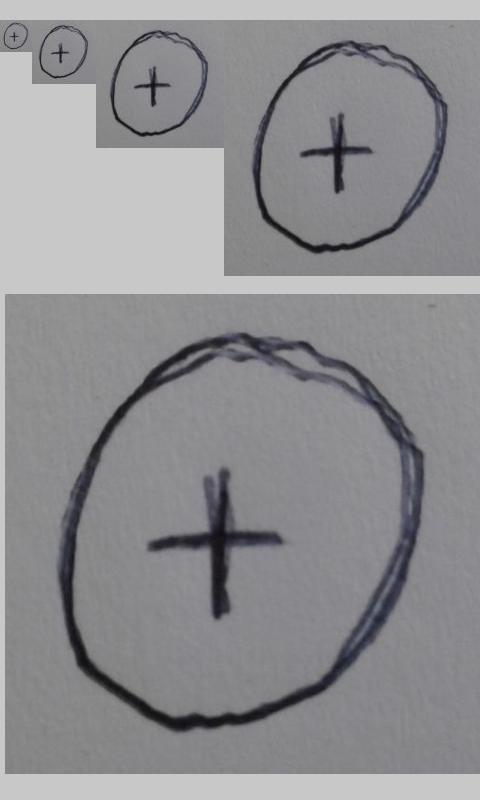button: (54, 330, 427, 734), (251, 39, 448, 255), (109, 29, 209, 137), (38, 25, 88, 79), (3, 22, 28, 50)
